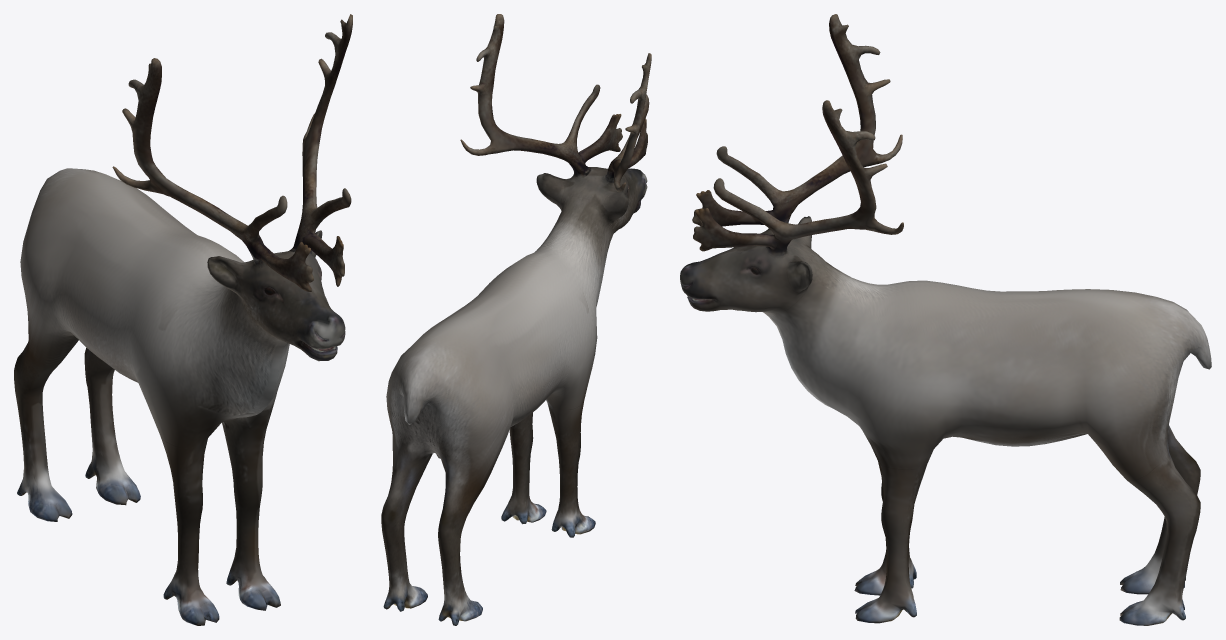
File: Deer_Model.fbx
3 renders of one model, left to right at view 1: azimuth 30°, elevation 25°; view 2: azimuth 150°, elevation 25°; view 3: azimuth 270°, elevation 25°, orthographic. The views are drawn at different scales.
Parts seen in each view (by area): view 1: south Dear; view 2: south Dear; view 3: south Dear.
Boxes of the visible parts, x1,y1,x2,y2 form: south Dear: (14, 14, 352, 625); south Dear: (381, 14, 651, 625); south Dear: (680, 14, 1211, 625).
Size of the model in its own units: 84.66 by 233 by 205.
1 material, 1 textured.
